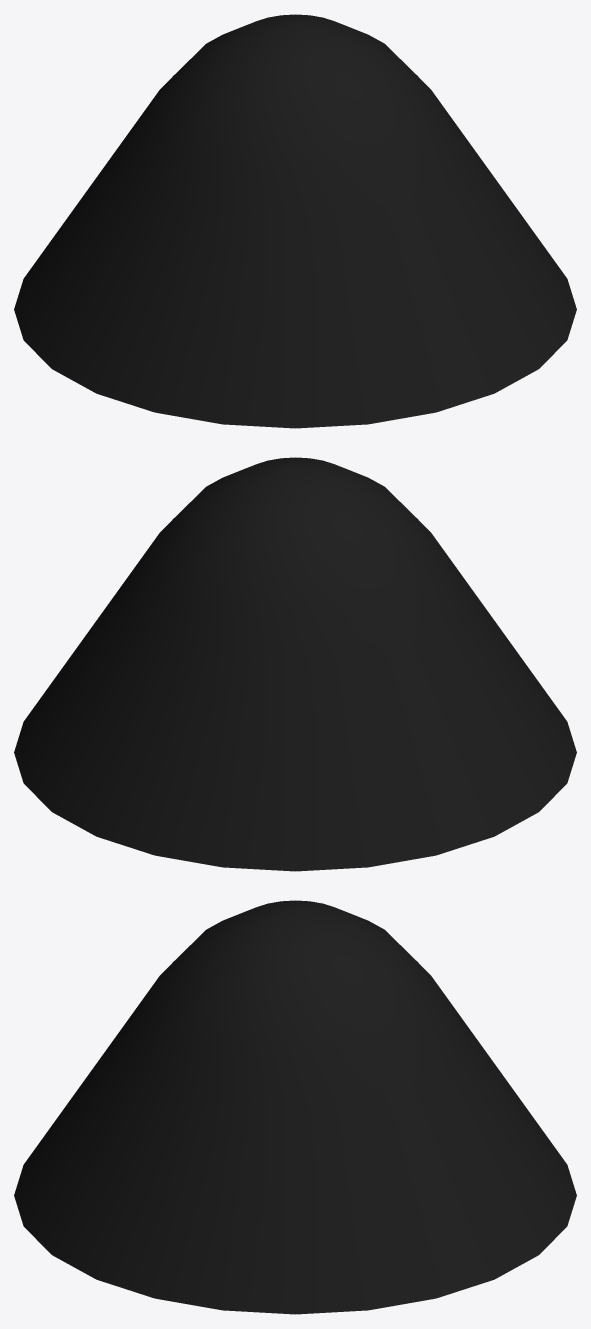
Rendered from aquarius_drogue_parachute_s0_1.obj.
3 renders of one model, top to bottom at view 1: azimuth 30°, elevation 25°; view 2: azimuth 150°, elevation 25°; view 3: azimuth 270°, elevation 25°, orthographic.
Visible parts, largest first — view 1: aquarius_drogue_parachute_s0_1, aquarius_drogue_parachute_s0_1_cap; view 2: aquarius_drogue_parachute_s0_1, aquarius_drogue_parachute_s0_1_cap; view 3: aquarius_drogue_parachute_s0_1, aquarius_drogue_parachute_s0_1_cap.
Part boxes in pixels (x1,y1,x2,y2): aquarius_drogue_parachute_s0_1: [14, 129, 576, 428]; aquarius_drogue_parachute_s0_1_cap: [126, 14, 464, 217]; aquarius_drogue_parachute_s0_1: [14, 572, 576, 871]; aquarius_drogue_parachute_s0_1_cap: [126, 457, 464, 660]; aquarius_drogue_parachute_s0_1: [14, 1015, 576, 1314]; aquarius_drogue_parachute_s0_1_cap: [126, 900, 464, 1103].
Bounding box in the file's own units: 0.625 × 0.35 × 0.625.
